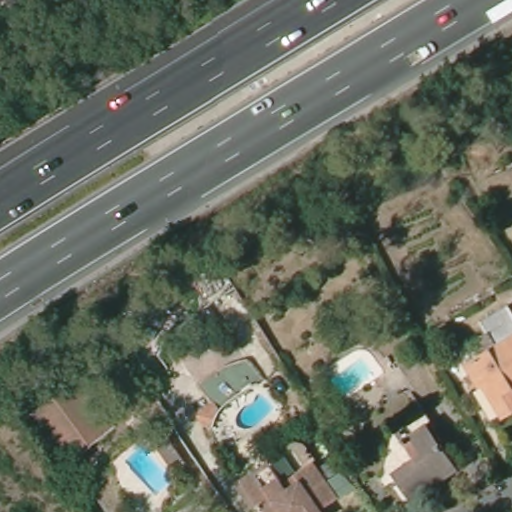pool: (122, 442, 177, 493), (326, 358, 379, 396), (236, 395, 278, 431)
